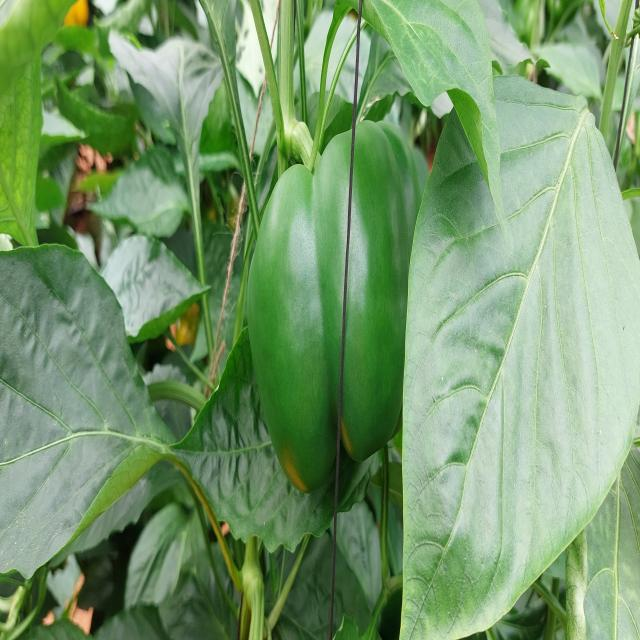Green--Not-ready-to-harvest: (243, 110, 424, 487)
